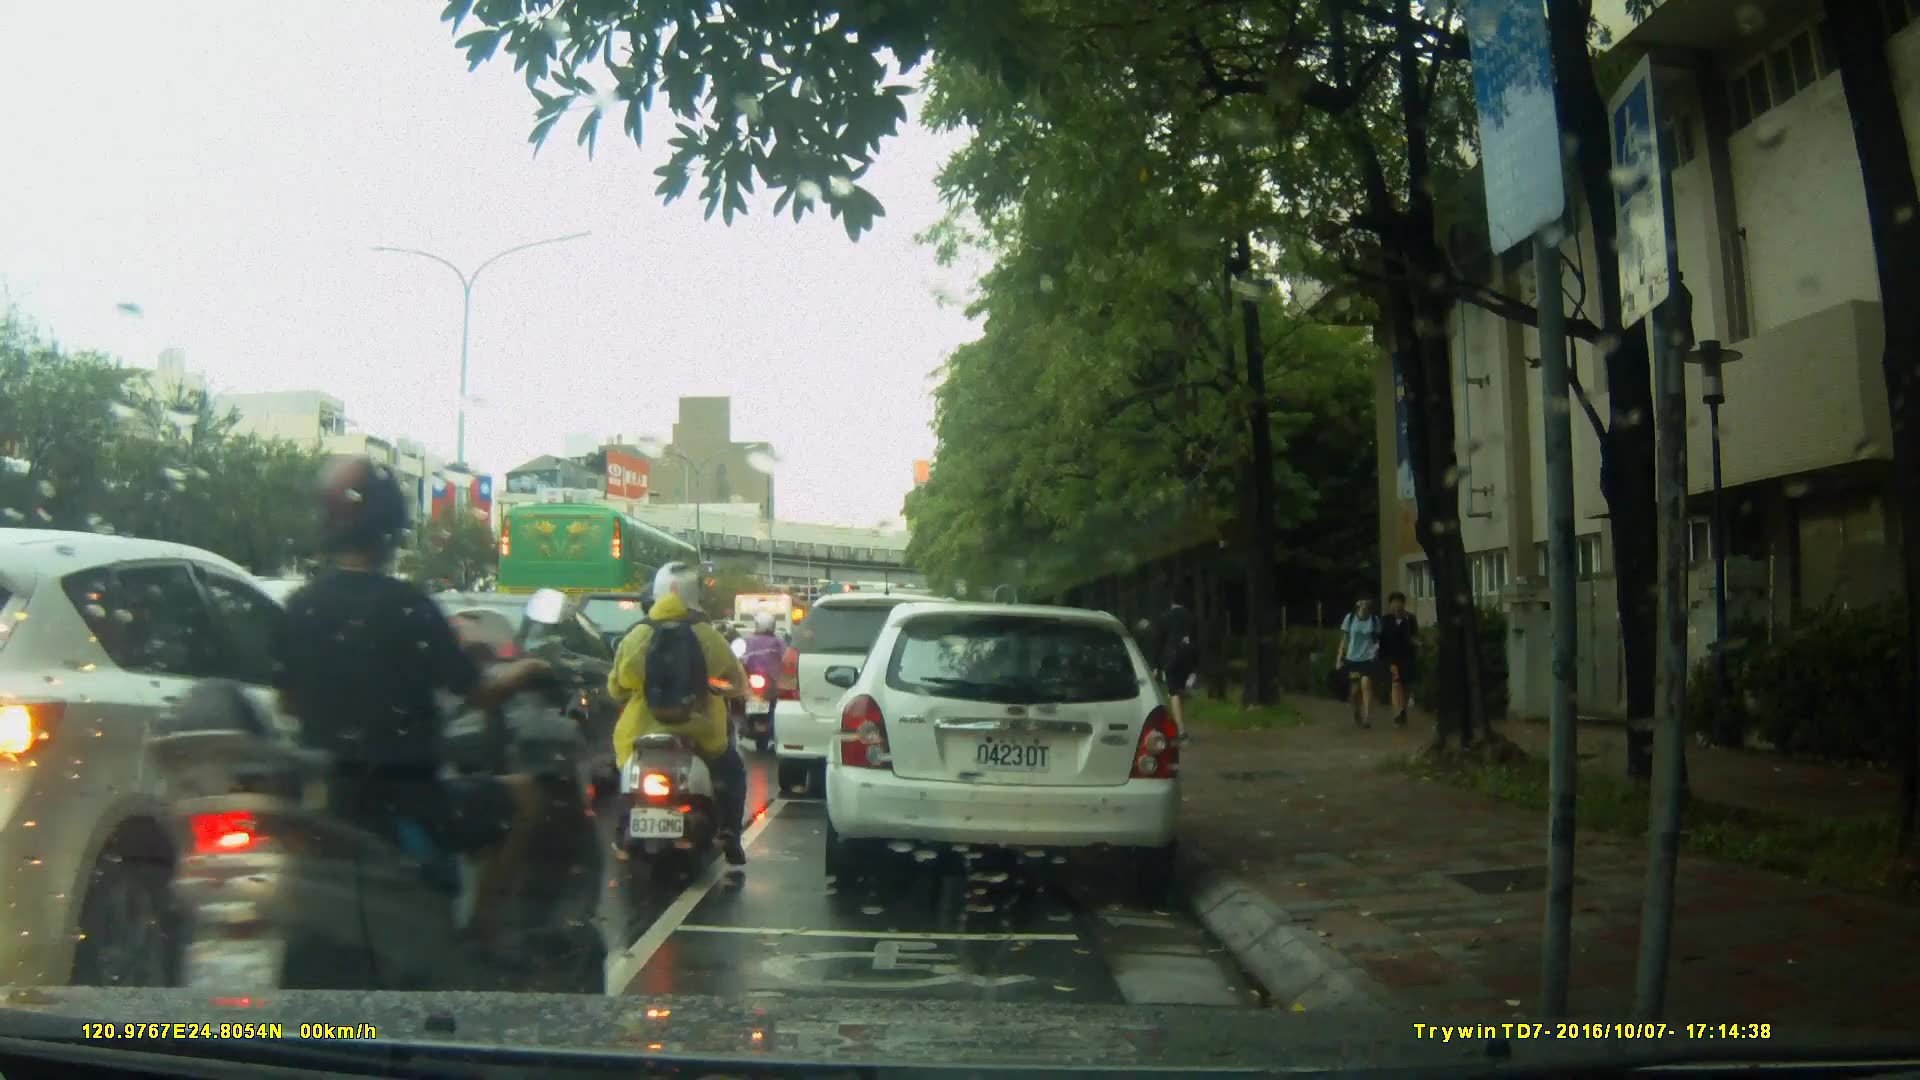pedestrian: (1150, 586, 1205, 750), (1323, 586, 1379, 737), (1377, 584, 1420, 733)
rider: (138, 451, 607, 1080), (612, 560, 757, 872), (737, 610, 798, 751)
vehicle: (1, 526, 437, 986), (831, 592, 1196, 897), (314, 592, 657, 803), (770, 592, 999, 800), (495, 502, 707, 640)
